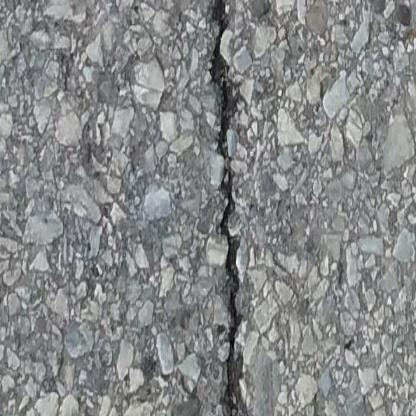Cracks: (202, 0, 258, 416)
